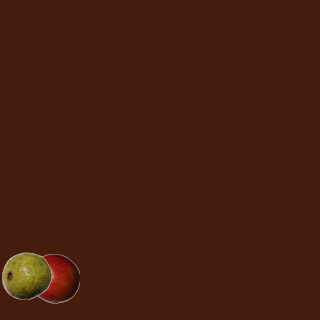Apple Braeburn: (29, 253, 79, 303)
Guava: (1, 250, 51, 300)
